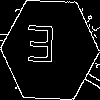E: (25, 25, 56, 72)
